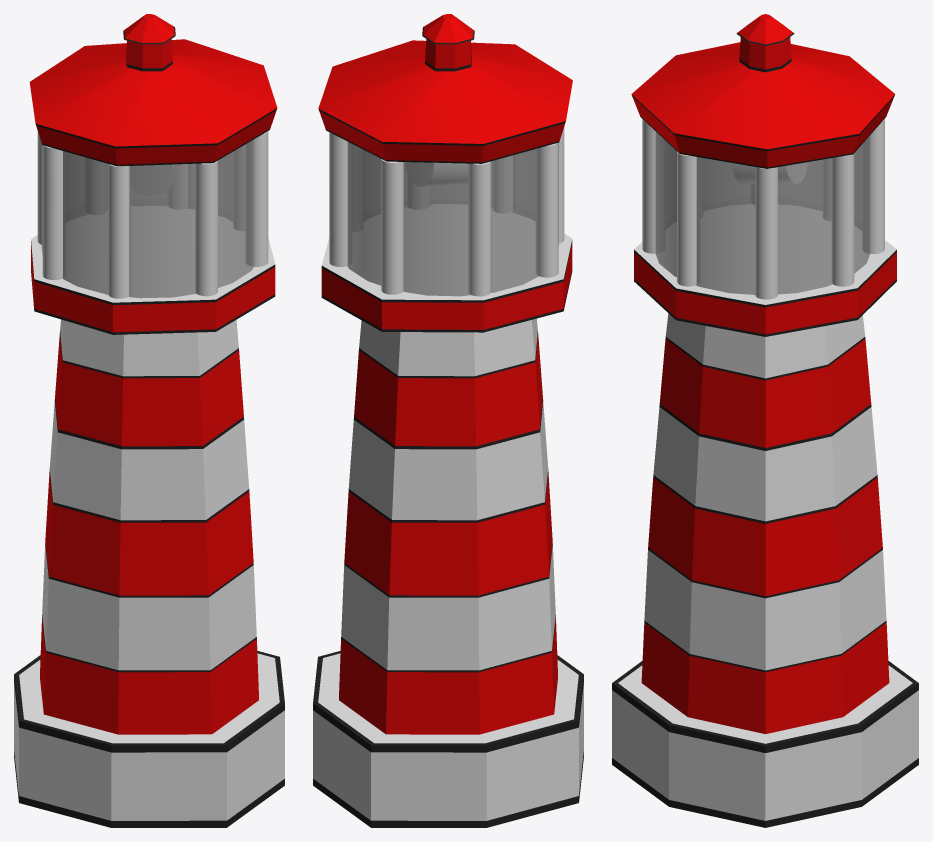
The model's file is LighthouseTEXTURE.fbx.
The picture shows the model from 3 angles, left to right: view 1: azimuth 30°, elevation 25°; view 2: azimuth 150°, elevation 25°; view 3: azimuth 270°, elevation 25°; orthographic projection.
Parts seen in each view (by area): view 1: Lighthouse, Glass, Poll_3, Poll_5, Poll_4, Poll_8, Light, Poll_6, Poll_1, Poll_7, Poll_2; view 2: Lighthouse, Glass, Poll_1, Poll_2, Poll_3, Poll_7, Light, Poll_5, Poll_6, Poll_4, Poll_8; view 3: Lighthouse, Glass, Poll_6, Poll_8, Poll_7, Poll_5, Poll_1, Light.
Part boxes in pixels (bbox=[...]): Lighthouse: bbox=[14, 14, 284, 827]; Glass: bbox=[41, 140, 253, 298]; Poll_3: bbox=[42, 145, 65, 279]; Poll_5: bbox=[195, 160, 217, 296]; Poll_4: bbox=[108, 164, 130, 298]; Poll_8: bbox=[246, 131, 268, 266]; Light: bbox=[131, 164, 175, 195]; Poll_6: bbox=[233, 145, 245, 230]; Poll_1: bbox=[88, 158, 107, 214]; Poll_7: bbox=[168, 164, 188, 209]; Poll_2: bbox=[37, 131, 41, 244]; Lighthouse: bbox=[313, 14, 583, 827]; Glass: bbox=[347, 142, 558, 296]; Poll_1: bbox=[381, 159, 403, 294]; Poll_2: bbox=[468, 161, 490, 296]; Poll_3: bbox=[536, 142, 558, 277]; Poll_7: bbox=[329, 132, 351, 266]; Light: bbox=[405, 162, 467, 186]; Poll_5: bbox=[493, 155, 512, 213]; Poll_6: bbox=[352, 144, 363, 231]; Poll_4: bbox=[559, 127, 564, 243]; Poll_8: bbox=[408, 177, 429, 209]; Lighthouse: bbox=[612, 14, 918, 827]; Glass: bbox=[655, 131, 869, 294]; Poll_6: bbox=[755, 167, 777, 299]; Poll_8: bbox=[677, 151, 699, 286]; Poll_7: bbox=[832, 153, 854, 286]; Poll_5: bbox=[642, 119, 664, 253]; Poll_1: bbox=[862, 119, 884, 253]; Light: bbox=[732, 162, 807, 184].
Bounding box in the file's own units: 789 × 2181 × 811.
